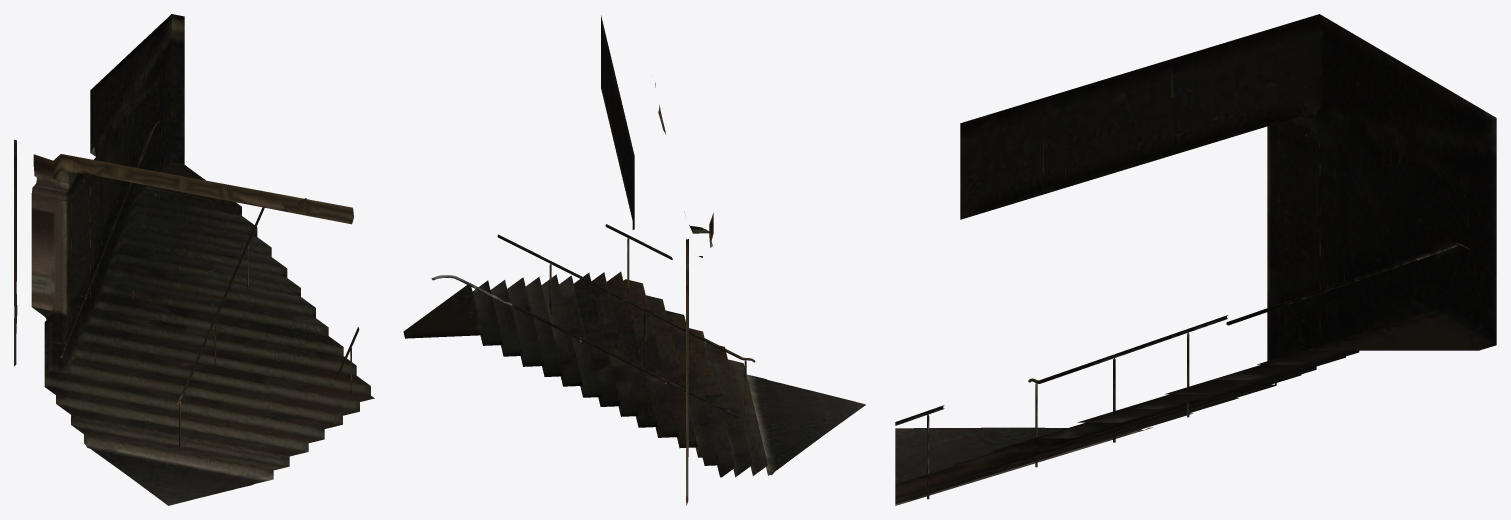
3 renders of one model, left to right at view 1: azimuth 30°, elevation 25°; view 2: azimuth 150°, elevation 25°; view 3: azimuth 270°, elevation 25°, orthographic. The views are drawn at different scales.
Size of the model in its own units: 4.11 by 5.72 by 6.75.
1 material, 1 textured.
